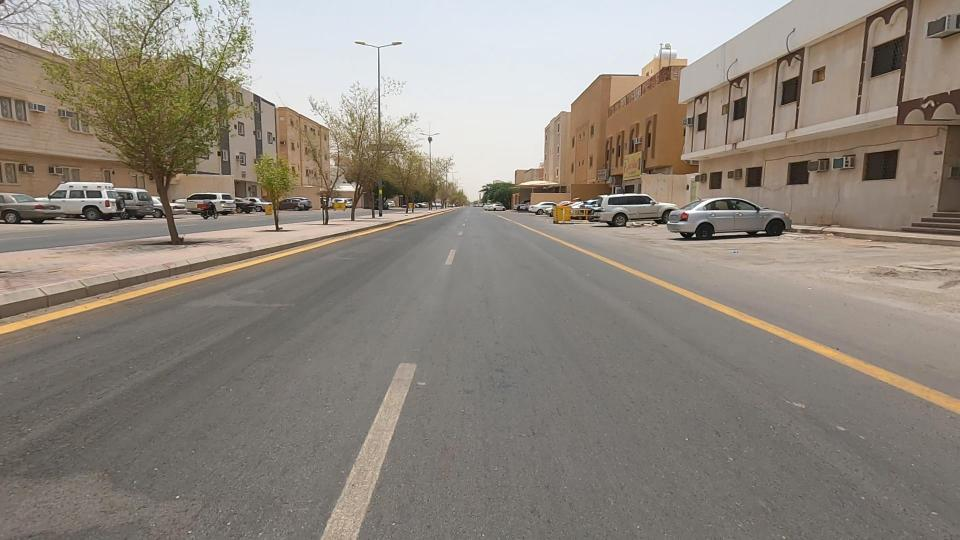GARBAGE: (606, 209, 663, 241)
